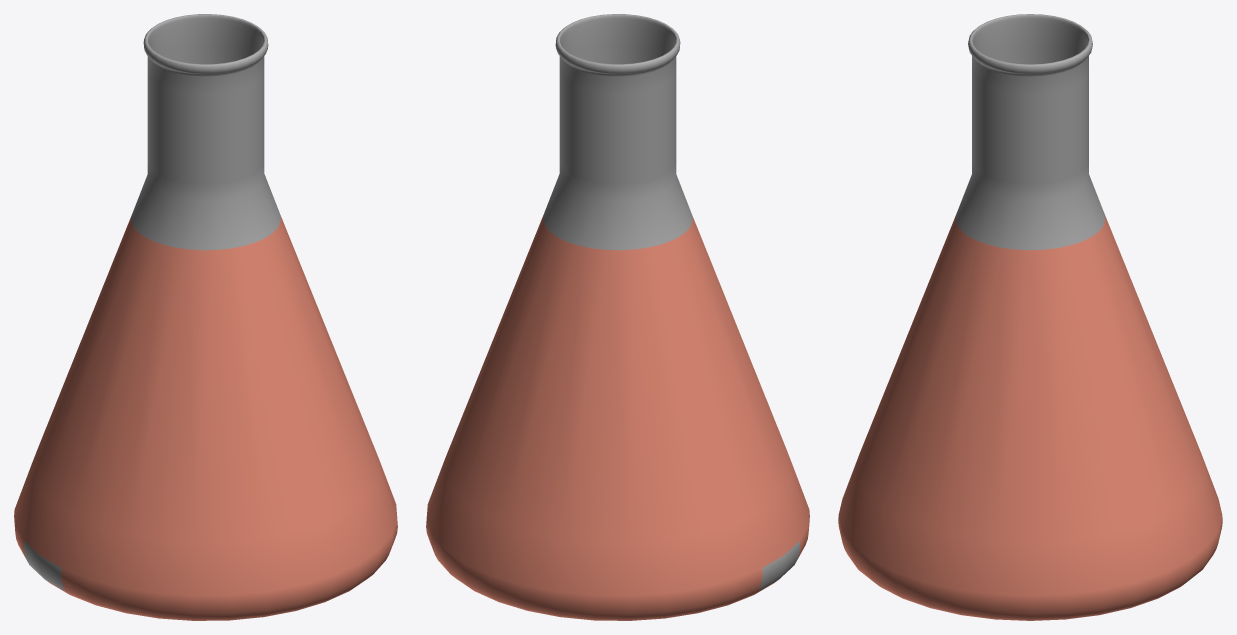
The model's file is beaker02.fbx.
The picture shows the model from 3 angles, left to right: view 1: azimuth 30°, elevation 25°; view 2: azimuth 150°, elevation 25°; view 3: azimuth 270°, elevation 25°; orthographic projection.
Visible parts, largest first — view 1: conicalflask; view 2: conicalflask; view 3: conicalflask.
Boxes of the visible parts, box(x1,y1,x2,y2) form: conicalflask: box(14, 14, 397, 620); conicalflask: box(426, 14, 809, 620); conicalflask: box(838, 14, 1222, 620).
Size of the model in its own units: 3.29 by 4.84 by 3.29.
